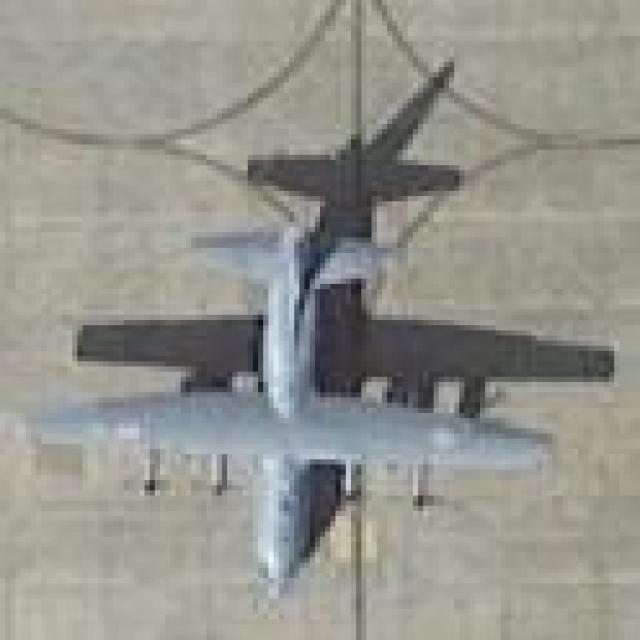C-130_TopDown: (38, 56, 623, 590)
